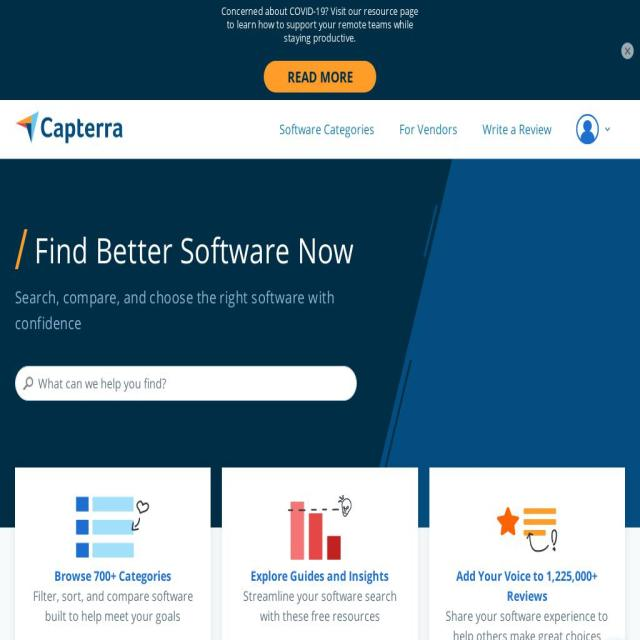button: (439, 494, 615, 606), (25, 494, 201, 586), (232, 494, 408, 586), (267, 111, 387, 147), (470, 111, 564, 147), (387, 111, 470, 147), (621, 42, 634, 59)
field: (15, 366, 357, 402)
heading: (15, 284, 357, 337), (28, 226, 354, 274), (15, 229, 27, 270)
iframe: (0, 0, 640, 101)
image: (25, 494, 201, 562), (232, 494, 408, 562), (439, 494, 615, 562), (15, 111, 124, 144), (576, 114, 599, 144), (602, 122, 612, 136)
text: (25, 586, 201, 626), (232, 586, 408, 626), (439, 606, 615, 640), (456, 566, 598, 606), (250, 566, 390, 586), (54, 566, 172, 586)
